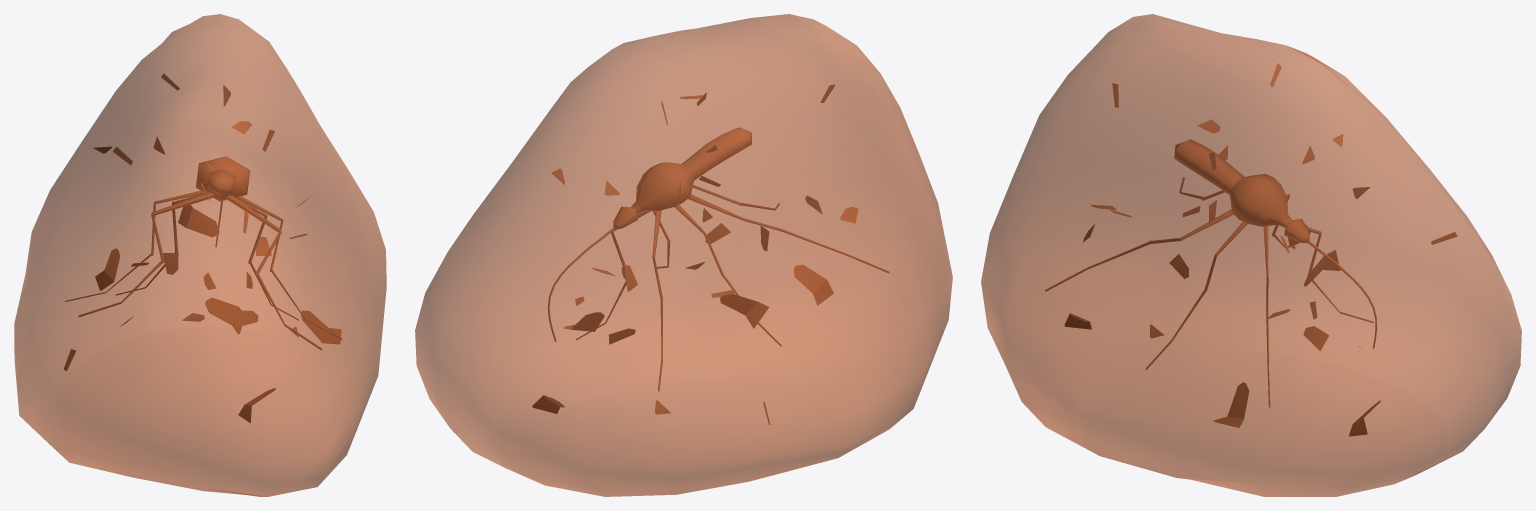
The model's file is OBJ_FossilizedAmber.fbx.
3 renders of one model, left to right at view 1: azimuth 30°, elevation 25°; view 2: azimuth 150°, elevation 25°; view 3: azimuth 270°, elevation 25°, orthographic. The views are drawn at different scales.
Visible parts, largest first — view 1: Amber1_pCube62; view 2: Amber1_pCube62; view 3: Amber1_pCube62.
Boxes of the visible parts, x1,y1,x2,y2 form: Amber1_pCube62: (14, 14, 386, 496); Amber1_pCube62: (415, 14, 952, 496); Amber1_pCube62: (981, 14, 1521, 496).
Size of the model in its own units: 51.26 by 48.27 by 61.09.
